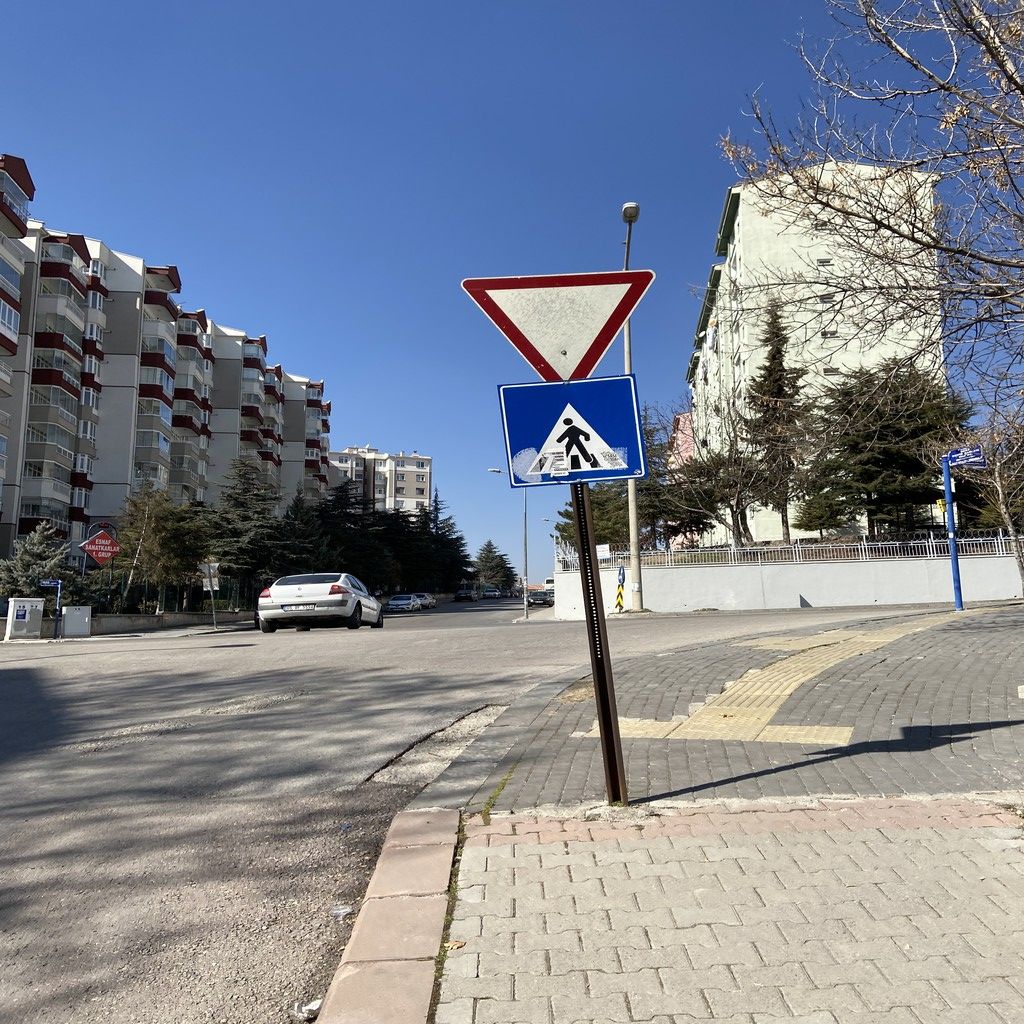Yaya Gecidi: (499, 385, 646, 482)
Yol Ver: (459, 258, 678, 380)
